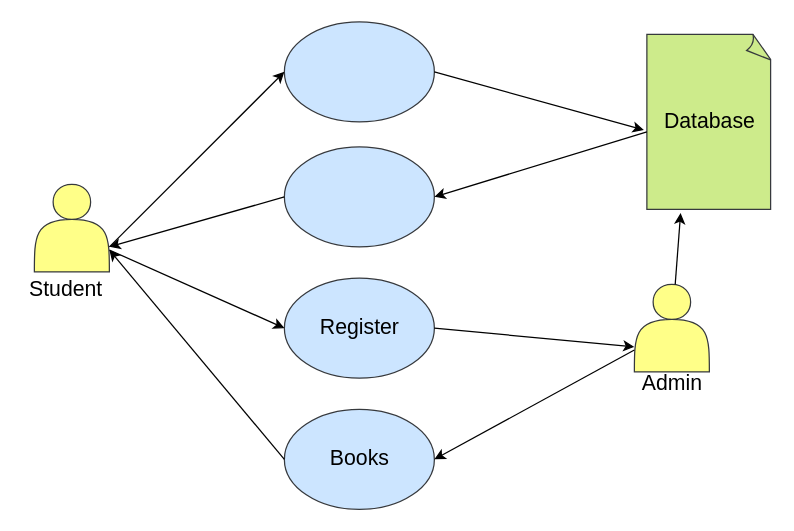
The diagram is 794 pixels wide and 531 high, and some of its shapes have lost their labels. The centre of each missing label's shape, as x and y in pixels:
Display: (358,196)
Search: (358,71)
